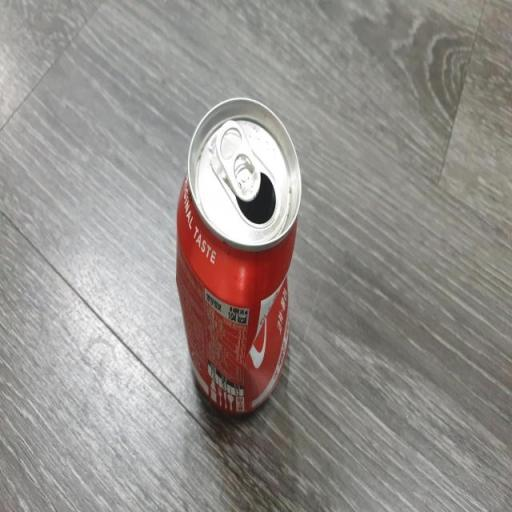metal: (165, 81, 313, 435)
